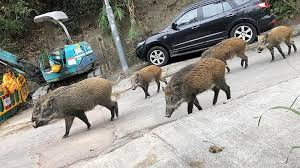boar: (31, 77, 121, 138), (162, 58, 230, 121), (257, 25, 296, 63), (129, 64, 166, 100)
